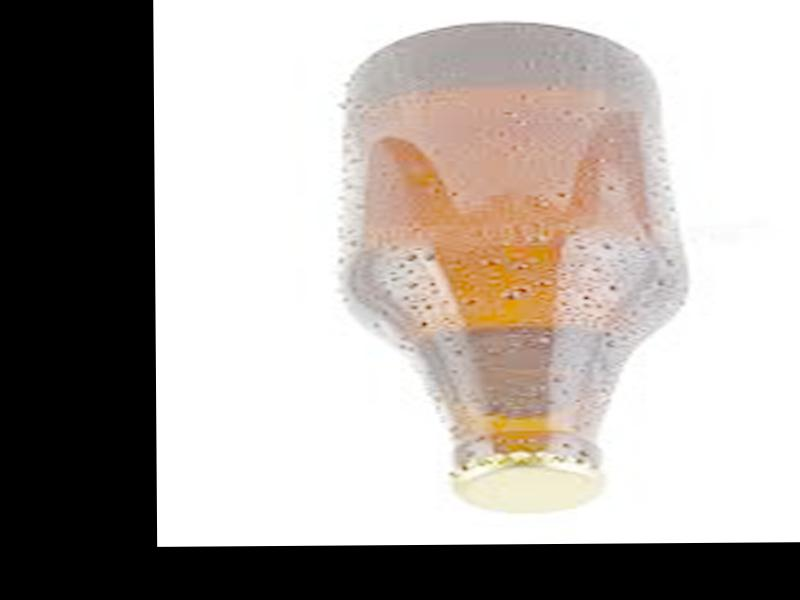Beer: (346, 23, 664, 514)
